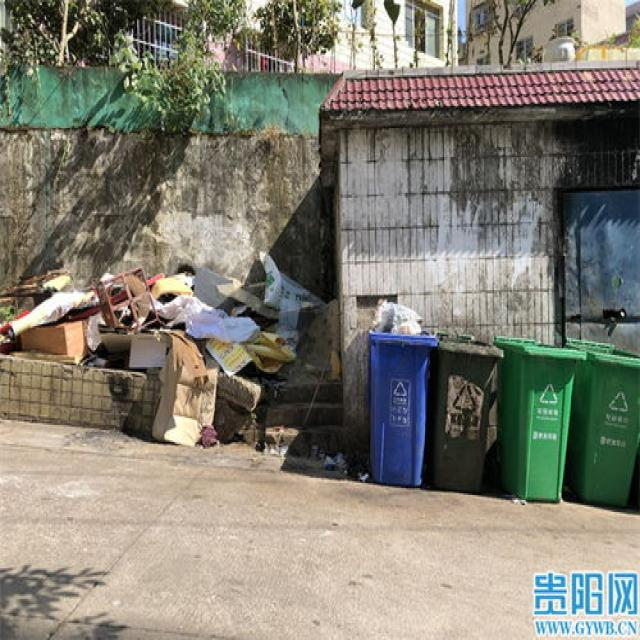garbage_bin: (493, 335, 585, 500), (566, 336, 638, 504), (431, 329, 503, 492)
overflow: (366, 297, 435, 486)
